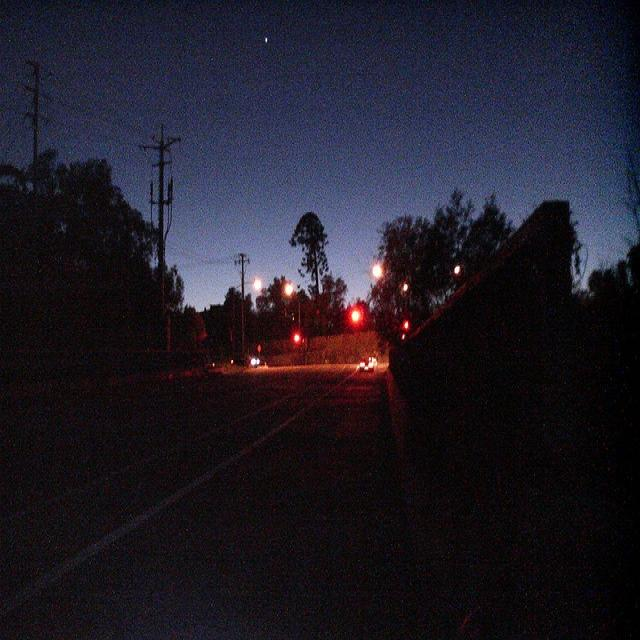car: (357, 355, 376, 369), (246, 355, 259, 365)
